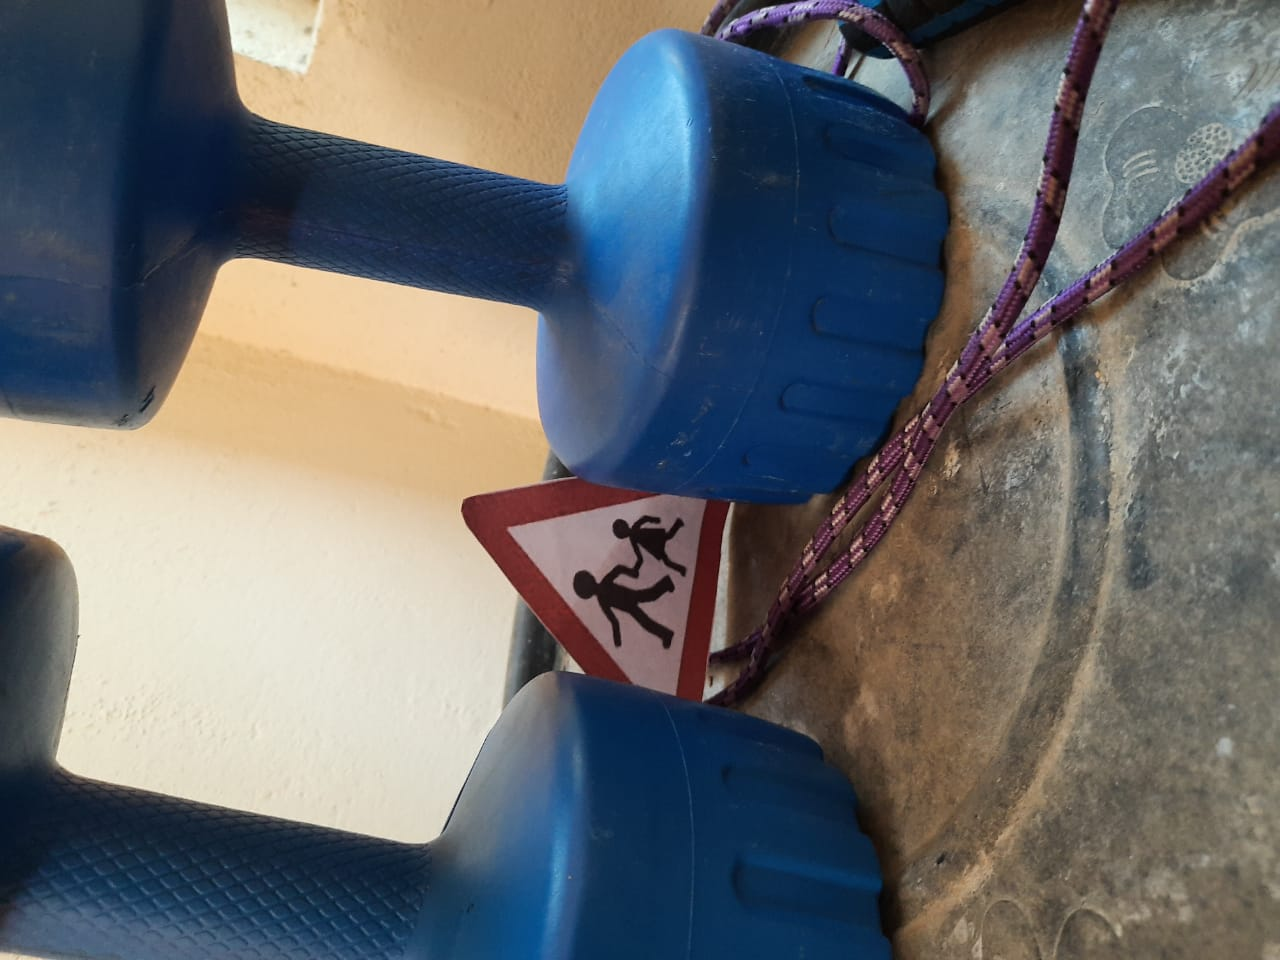SCHOOL ZONE: (447, 427, 728, 712)
